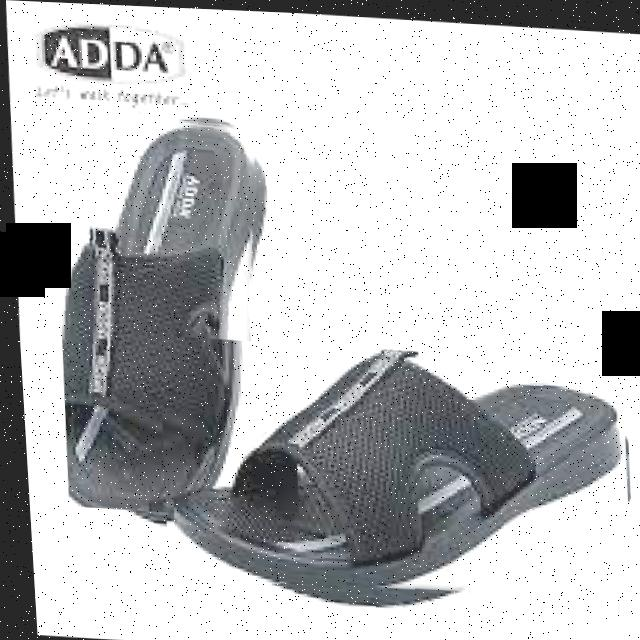shoe: (40, 107, 636, 619), (150, 334, 630, 602), (43, 105, 271, 517)
